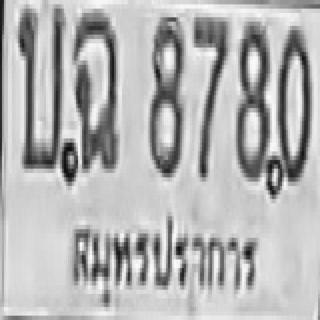A09: (71, 9, 117, 169)
A26: (16, 0, 64, 168)
N00: (274, 22, 310, 182)
N07: (193, 13, 227, 177)
N08: (234, 17, 268, 177), (148, 13, 182, 173)
P57: (68, 204, 262, 306)
